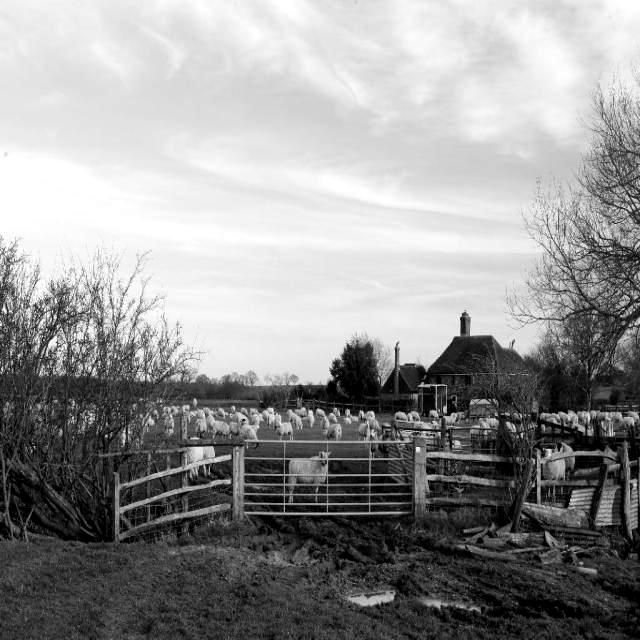sheep: (288, 452, 328, 500)
